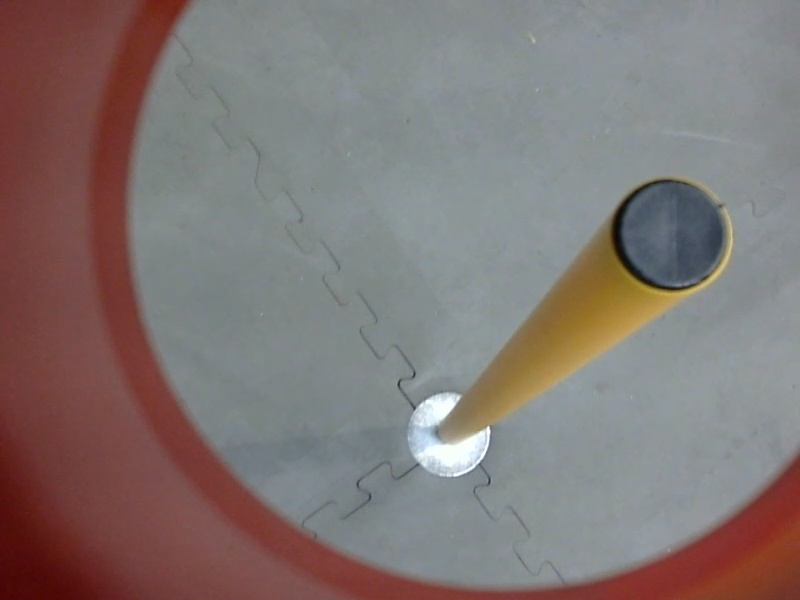tip: (603, 167, 739, 300)
